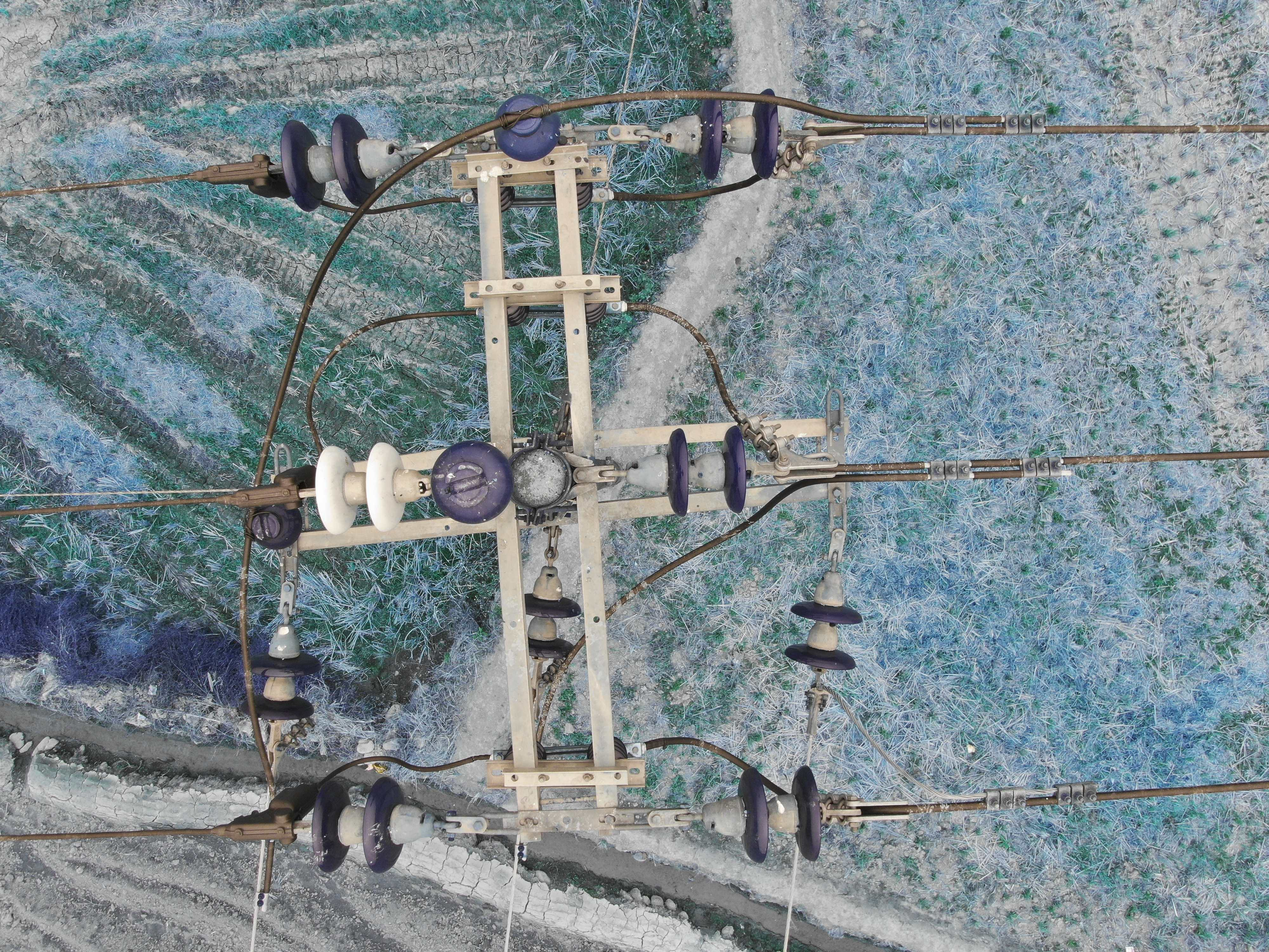severe_soiling_no_discharge_whole: (300, 774, 440, 873), (432, 439, 515, 524)
